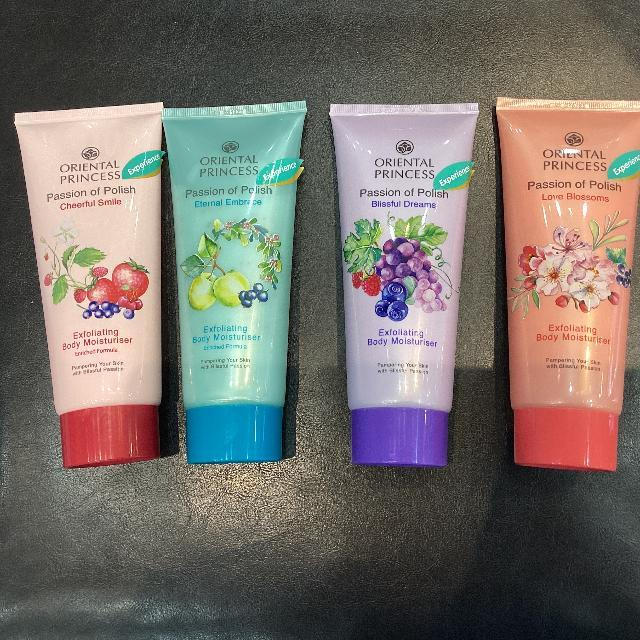Squeeze Tube: (4, 78, 640, 484), (5, 102, 178, 480), (326, 100, 480, 477), (494, 100, 639, 475), (164, 99, 310, 469)
